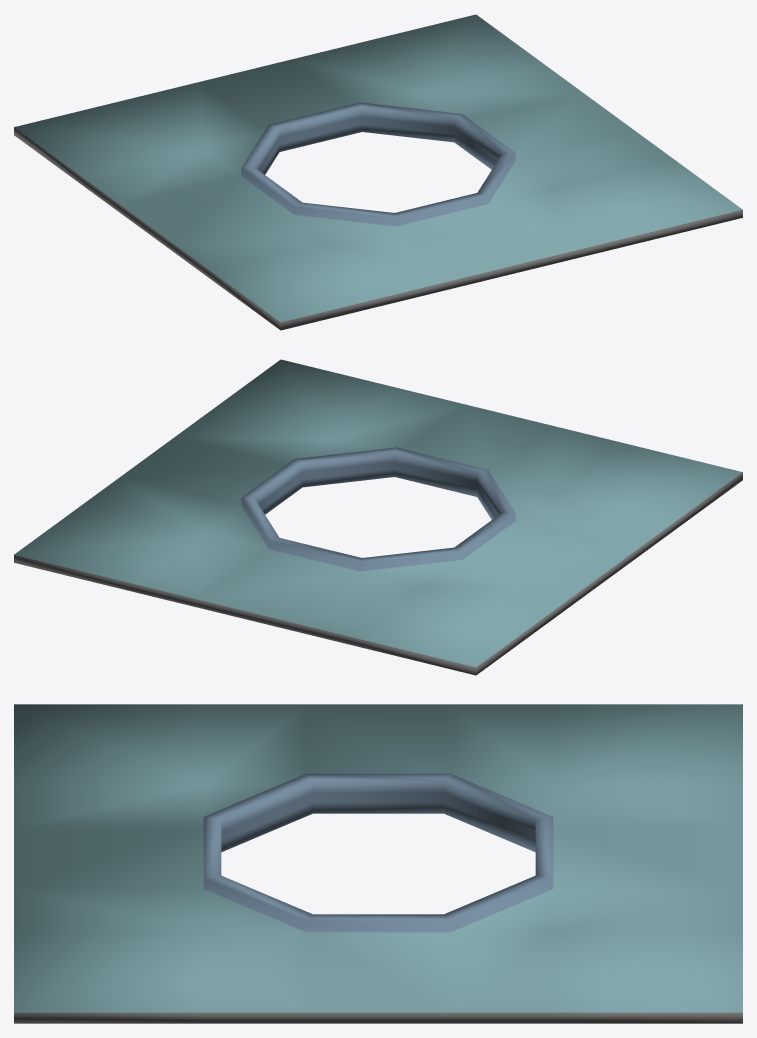
The model's file is hole.fbx.
The picture shows the model from 3 angles, top to bottom: view 1: azimuth 30°, elevation 25°; view 2: azimuth 150°, elevation 25°; view 3: azimuth 270°, elevation 25°; orthographic projection. The views are drawn at different scales.
Parts seen in each view (by area): view 1: Hole; view 2: Hole; view 3: Hole.
Boxes of the visible parts, left/top/right/bottom form: Hole: left=14, top=14, right=742, bottom=330; Hole: left=14, top=359, right=742, bottom=675; Hole: left=14, top=704, right=742, bottom=1023.
Size of the model in its own units: 30 by 1.5 by 30.
